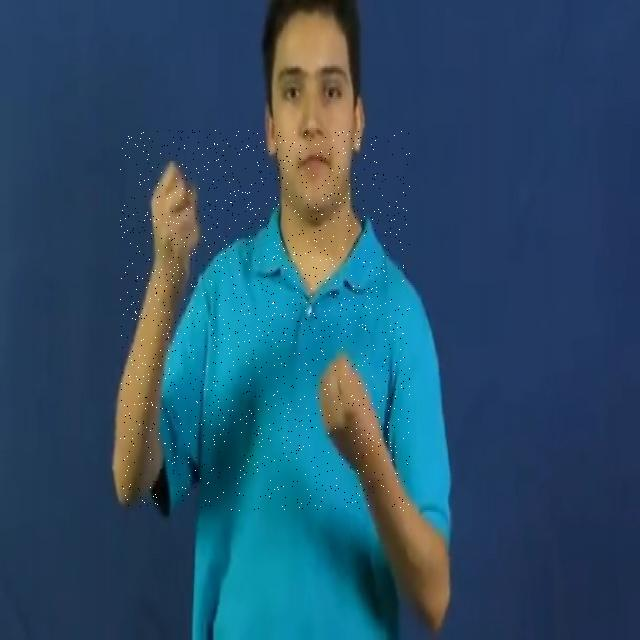drive: (120, 130, 410, 511)
